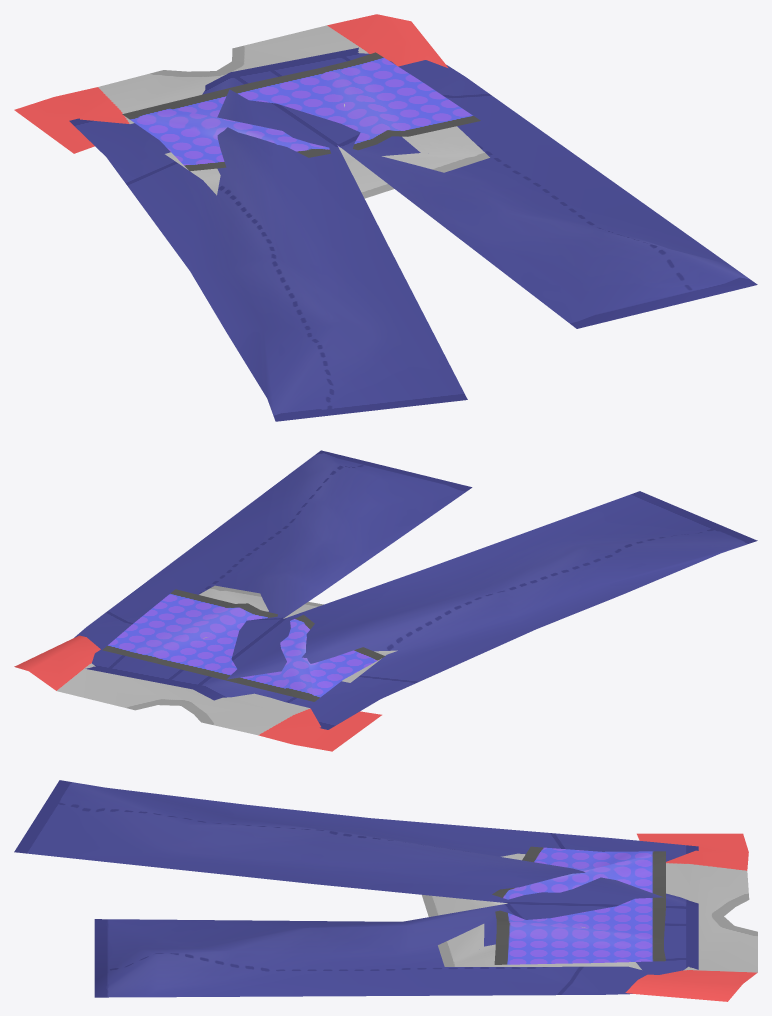
File: StrewnClothes.fbx
The picture shows the model from 3 angles, top to bottom: view 1: azimuth 30°, elevation 25°; view 2: azimuth 150°, elevation 25°; view 3: azimuth 270°, elevation 25°; orthographic projection. The views are drawn at different scales.
Parts seen in each view (by area): view 1: Pants, underpants, Shirt; view 2: Pants, underpants, Shirt; view 3: Pants, Shirt, underpants.
Part boxes in pixels (x1,y1,x2,y2): Pants: (69,47,757,421); underpants: (122,52,480,171); Shirt: (14,14,489,198); Pants: (74,450,757,729); underpants: (102,589,385,701); Shirt: (14,585,397,751); Pants: (14,780,698,997); Shirt: (422,833,757,1001); underpants: (492,846,665,964).
Bounding box in the file's own units: 66.21 × 2.92 × 93.82.
Materials: 1 (1 with a texture image).
